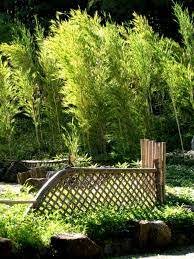bamboo: (56, 7, 141, 160), (2, 21, 77, 156), (142, 1, 192, 145)
